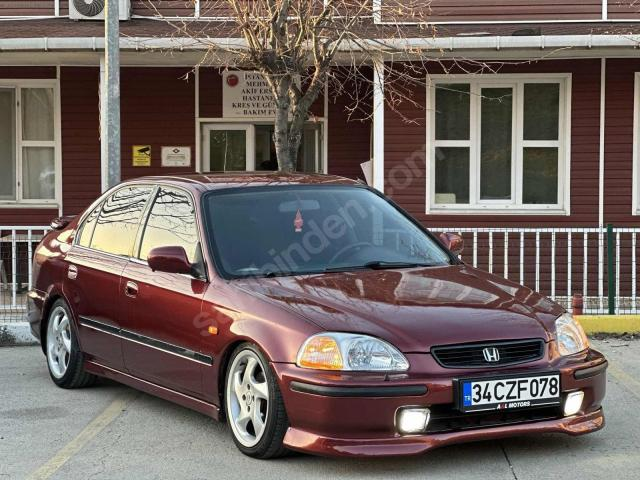plaka: (460, 373, 560, 412)
